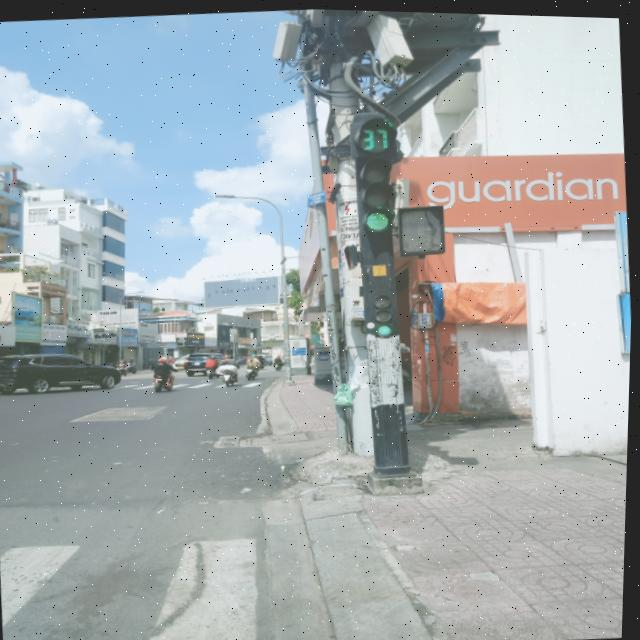Green: (349, 154, 401, 237), (362, 283, 400, 334)
